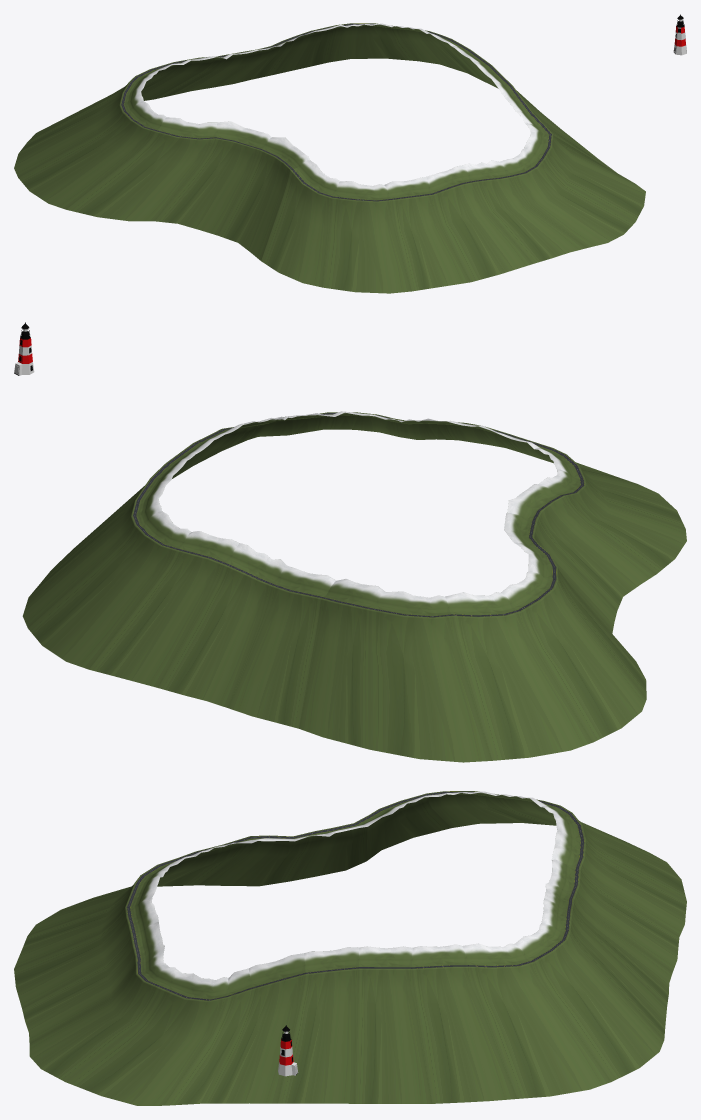
The model's file is Env 1.fbx.
3 views of the same model, one above another, from view 1: azimuth 30°, elevation 25°; view 2: azimuth 150°, elevation 25°; view 3: azimuth 270°, elevation 25° (orthographic). The views are drawn at different scales.
Visible parts, largest first — view 1: Plane.002, Plane.001; view 2: Plane.002, Plane.001, Cylinder; view 3: Plane.002, Plane.001, Cylinder.
Boxes of the visible parts, bbox=[...] form: Plane.002: bbox=[14, 23, 645, 293]; Plane.001: bbox=[121, 23, 551, 201]; Plane.002: bbox=[22, 411, 686, 762]; Plane.001: bbox=[133, 412, 584, 617]; Cylinder: bbox=[14, 322, 34, 375]; Plane.002: bbox=[14, 791, 686, 1105]; Plane.001: bbox=[126, 791, 584, 1000]; Cylinder: bbox=[278, 1025, 298, 1076].
Bounding box in the file's own units: 795402 × 149608 × 658637.
